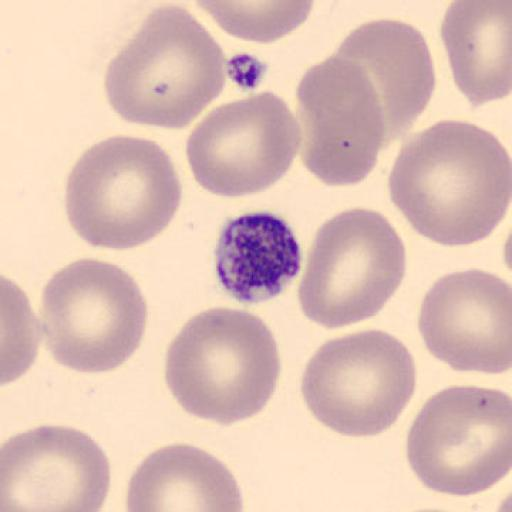Platelet: (210, 208, 305, 307)
RBC: (386, 117, 511, 250), (103, 1, 227, 130), (163, 304, 284, 427), (62, 132, 183, 252), (328, 16, 436, 148), (296, 205, 408, 331), (300, 326, 418, 440), (37, 255, 149, 375), (184, 90, 304, 200), (294, 54, 386, 189), (405, 382, 512, 498), (416, 266, 511, 376), (0, 421, 113, 512), (124, 440, 246, 512), (438, 0, 512, 110), (187, 0, 318, 45), (2, 276, 42, 386)
